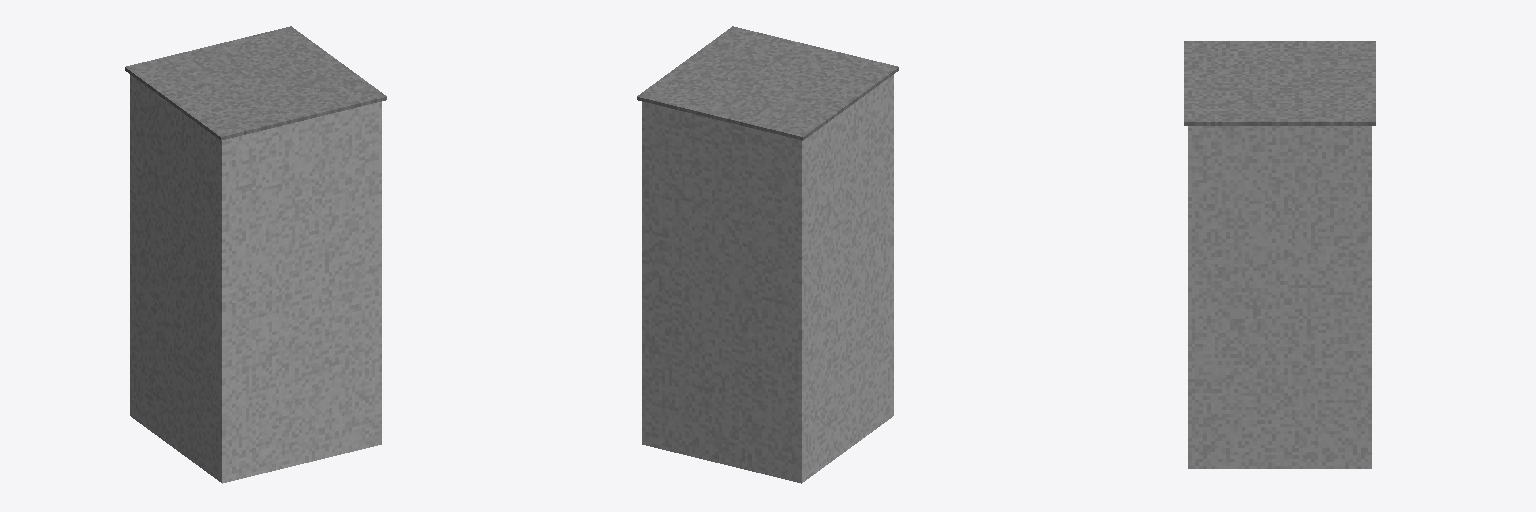
3 views of the same model, side by side, from view 1: azimuth 30°, elevation 25°; view 2: azimuth 150°, elevation 25°; view 3: azimuth 270°, elevation 25° (orthographic).
Visible parts, largest first — view 1: Bar, Ground; view 2: Bar, Ground; view 3: Bar, Ground.
Part boxes in pixels (x1,y1,x2,y2): Bar: (130,75,381,483); Ground: (125,26,386,140); Bar: (642,75,893,483); Ground: (637,26,898,140); Bar: (1188,126,1371,468); Ground: (1184,41,1375,125).
Bounding box in the file's own units: 2.5 × 5 × 2.5.
Materials: 1 (1 with a texture image).